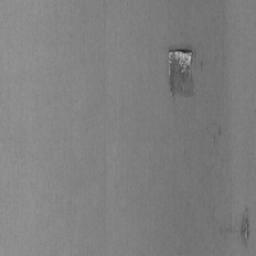Rolled pit: (168, 49, 193, 95), (240, 209, 250, 241)
